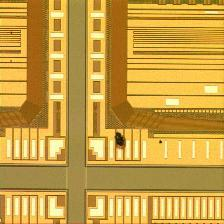PARTICLE: (112, 131, 166, 151)
